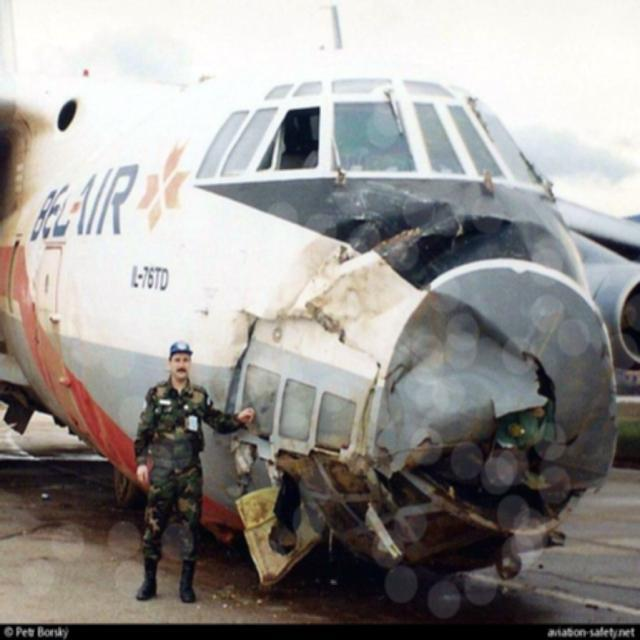dent: (340, 205, 503, 264)
